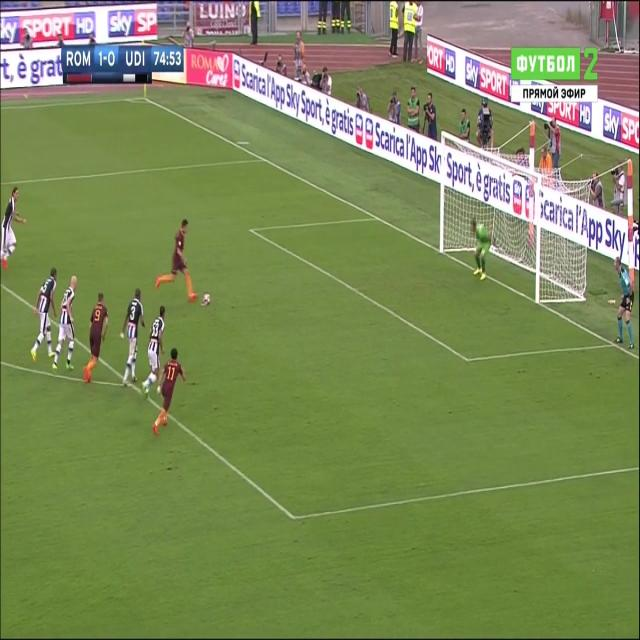Ball: (202, 290, 211, 310)
Goalkeeper: (469, 214, 493, 287)
Player: (155, 215, 200, 301), (147, 344, 188, 438), (50, 272, 80, 378), (82, 289, 112, 391), (118, 284, 146, 391), (31, 264, 59, 368), (1, 183, 29, 274), (141, 304, 166, 393)
Referee: (612, 255, 636, 348)
